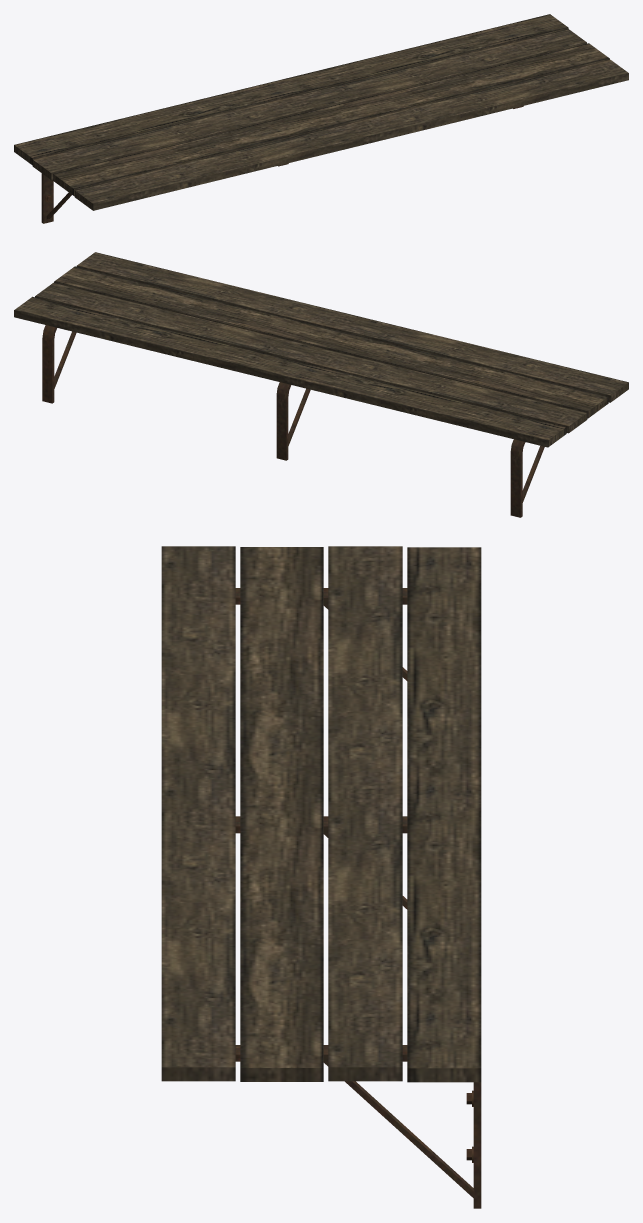
The model's file is hanging_shelf_mx_3_1.obj.
3 views of the same model, one above another, from view 1: azimuth 30°, elevation 25°; view 2: azimuth 150°, elevation 25°; view 3: azimuth 270°, elevation 25° (orthographic). The views are drawn at different scales.
Parts seen in each view (by area): view 1: hanging_shelf_mx_3_1; view 2: hanging_shelf_mx_3_1; view 3: hanging_shelf_mx_3_1.
Boxes of the visible parts, x1,y1,x2,y2 form: hanging_shelf_mx_3_1: (14, 14, 628, 223); hanging_shelf_mx_3_1: (14, 252, 628, 517); hanging_shelf_mx_3_1: (161, 546, 481, 1208).
Size of the model in its own units: 1.6 by 0.24 by 0.414.
